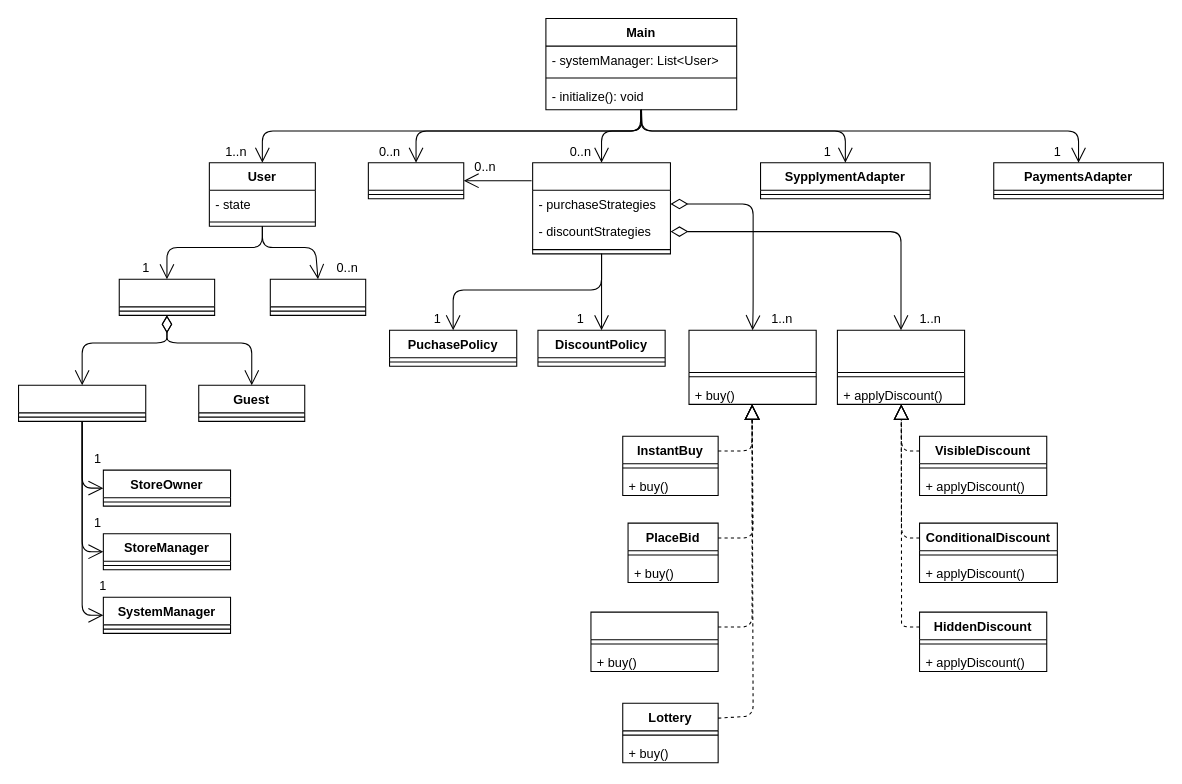
Some shapes in this 1182 by 784 pixel diagram are drawn without their labels. Here are the shapes that lost their labels. From the top down, the box of each, then its label:
(367, 162, 464, 199): Product
(532, 162, 670, 254): Store
(118, 278, 215, 315): State
(269, 278, 366, 315): Bag
(688, 329, 816, 404): «interface» PuchaseFormat
(836, 329, 965, 404): «interface» DiscountFormat
(17, 384, 146, 421): Registered
(590, 611, 718, 672): PublicAuction
